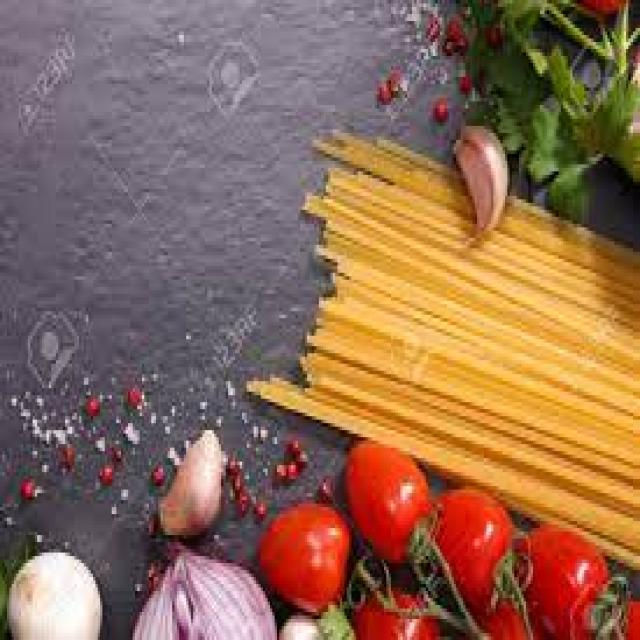Garlic: (140, 412, 229, 550), (444, 111, 508, 245)
Onion: (129, 524, 265, 640)
Pasta: (238, 128, 640, 572)
Tomato: (322, 418, 442, 570), (416, 468, 531, 618), (248, 492, 366, 610), (518, 510, 622, 640)
